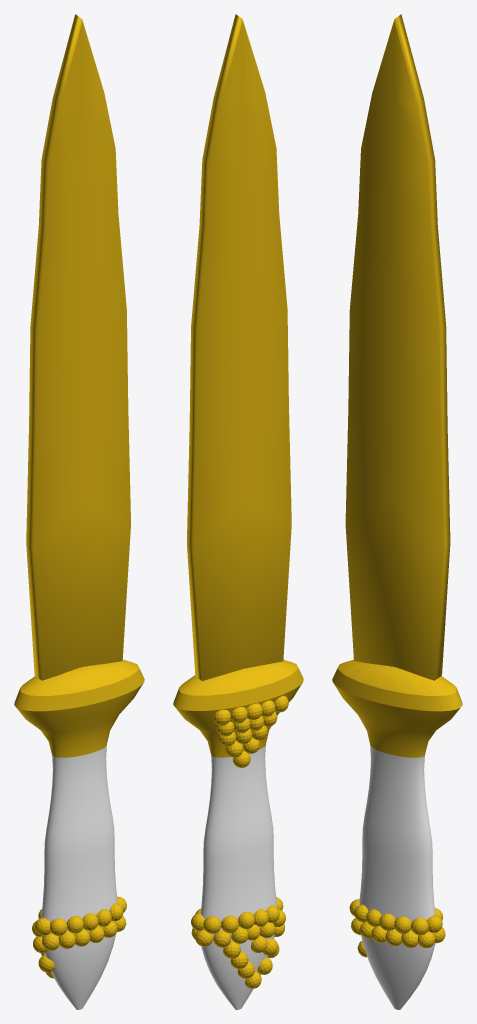
File: maskalam.glb
3 views of the same model, side by side, from view 1: azimuth 30°, elevation 25°; view 2: azimuth 210°, elevation 25°; view 3: azimuth 330°, elevation 25° (orthographic).
Visible parts, largest first — view 1: Cylinder; view 2: Cylinder; view 3: Cylinder.
Boxes of the visible parts, x1,y1,x2,y2 form: Cylinder: (14, 14, 144, 1009); Cylinder: (173, 14, 303, 1009); Cylinder: (332, 14, 462, 1009).
Bounding box in the file's own units: 0.4735 × 3.54 × 0.2265.
